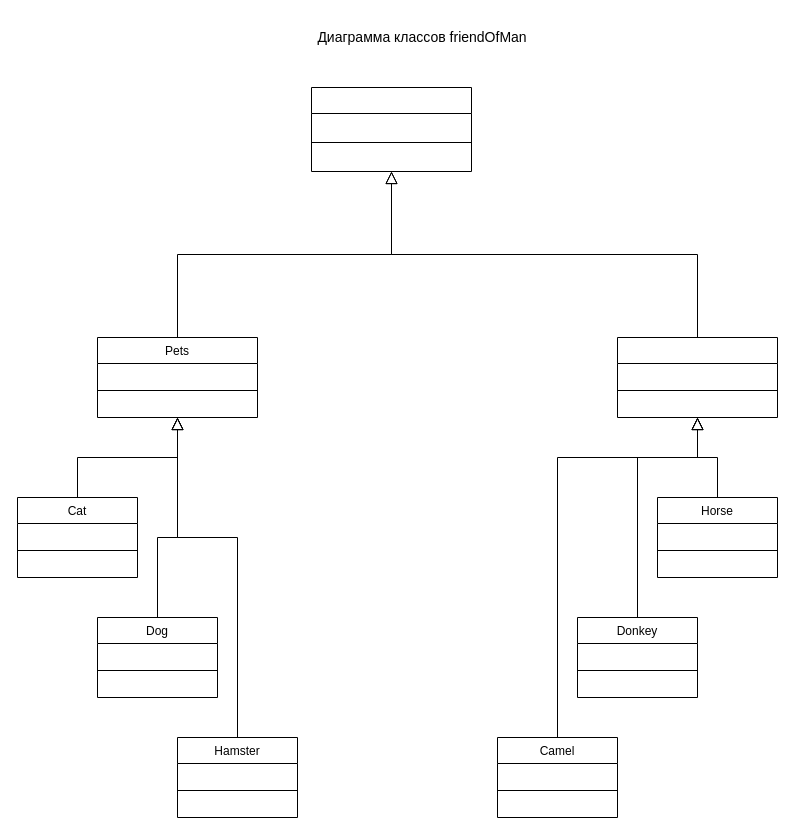
This 795x835 diagram has some shape labels left out. The shapes that lost their labels are listed below. From the top down, each one's centre as x and y in pixels, then its label:
At pixel 391 129: "Animals".
At pixel 697 377: "PackAnimals".
